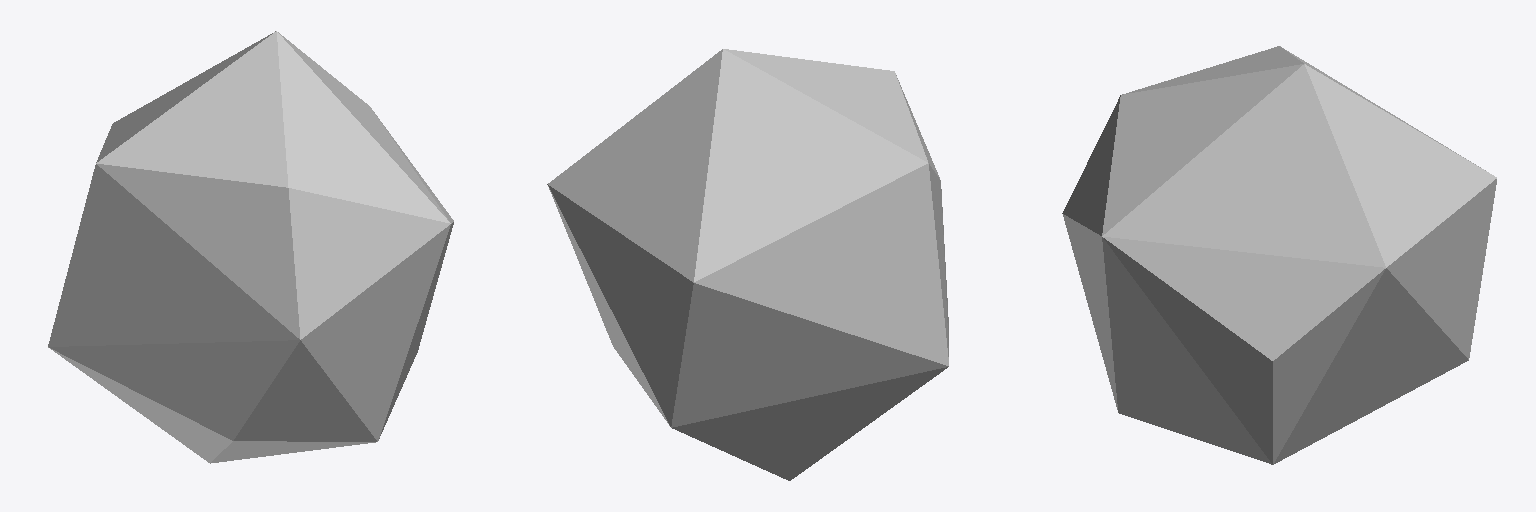
Rendered from Cloud12.obj.
3 renders of one model, left to right at view 1: azimuth 30°, elevation 25°; view 2: azimuth 150°, elevation 25°; view 3: azimuth 270°, elevation 25°, orthographic.
Parts seen in each view (by area): view 1: Cloud12_Object_68_Object_32.001; view 2: Cloud12_Object_68_Object_32.001; view 3: Cloud12_Object_68_Object_32.001.
Boxes of the visible parts, <box> form: Cloud12_Object_68_Object_32.001: <box>48,31,453,463</box>; Cloud12_Object_68_Object_32.001: <box>547,49,948,480</box>; Cloud12_Object_68_Object_32.001: <box>1062,46,1496,464</box>.
Bounding box in the file's own units: 0.5439 × 0.5555 × 0.5261.